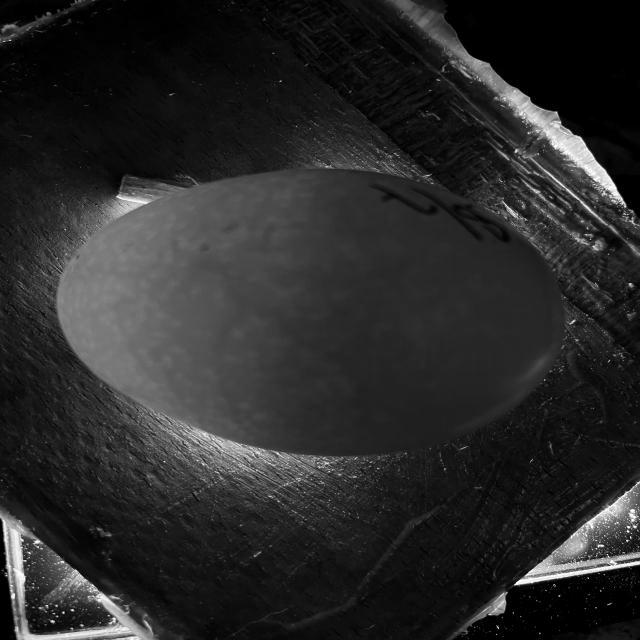telur: (45, 159, 572, 459)
